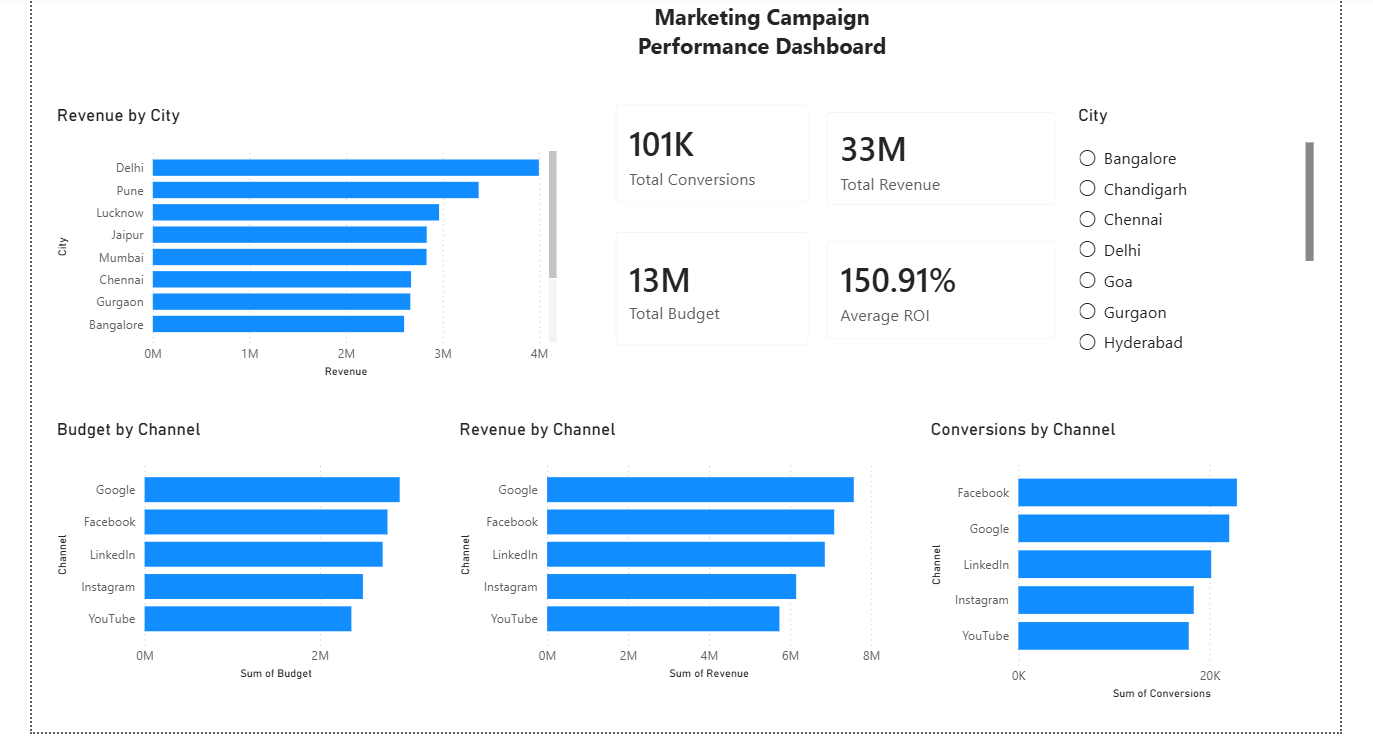

The dashboard page shown, as its layout file describes it:
{"tool":"powerbi","page":{"name":"Page 1","canvas":[1280,720],"ordinal":0},"visuals":[{"type":"cardVisual","fields":{"Data":["Sum(Marketing_Data.Budget)"]},"box":[553.9,214,223.8,145.5],"z":0},{"type":"cardVisual","fields":{"Data":["Sum(Marketing_Data.Conversions)"]},"box":[553.9,89.3,223.8,130.8],"z":1000},{"type":"clusteredBarChart","title":" Budget by Channel","fields":{"Y":["Sum(Marketing_Data.Budget)"],"Category":["Marketing_Data.Channel"]},"box":[19.6,413.3,362,260.5],"z":2000},{"type":"clusteredBarChart","title":"Revenue by Channel","fields":{"Category":["Marketing_Data.Channel"],"Y":["Sum(Marketing_Data.Revenue)"]},"box":[413.3,413.3,421.9,260.5],"z":3000},{"type":"clusteredBarChart","fields":{"Category":["Marketing_Data.City"],"Y":["Sum(Marketing_Data.Revenue)"]},"box":[19.6,106.4,498.9,271.5],"z":4000},{"type":"clusteredBarChart","title":"Conversions by Channel","fields":{"Category":["Marketing_Data.Channel"],"Y":["Sum(Marketing_Data.Conversions)"]},"box":[874.3,413.3,386.4,280],"z":5000},{"type":"textbox","box":[553.9,0,320.4,94.2],"z":6000},{"type":"cardVisual","fields":{"Data":["Sum(Marketing_Data.Revenue)"]},"box":[760.6,96.6,258,126],"z":7000},{"type":"cardVisual","fields":{"Data":["Avg(Marketing_Data.ROI (Return on Investment))"]},"box":[760.6,222.6,258,130.8],"z":8000},{"type":"listSlicer","fields":{"Values":["Marketing_Data.City"]},"box":[1018.6,106.4,240.9,247],"z":9000}]}

Visuals, with their boxes on the page's 1280x720 design canvas (x1, y1, x2, y2). These are canvas units, not pixel positions in the 1373x742 screenshot, which may show the page scaled, cropped or inside an application window:
cardVisual - Sum(Marketing_Data.Budget): 554:214:778:360
cardVisual - Sum(Marketing_Data.Conversions): 554:89:778:220
" Budget by Channel" clusteredBarChart: 20:413:382:674
"Revenue by Channel" clusteredBarChart: 413:413:835:674
clusteredBarChart - Marketing_Data.City x Sum(Marketing_Data.Revenue): 20:106:518:378
"Conversions by Channel" clusteredBarChart: 874:413:1261:693
textbox: 554:0:874:94
cardVisual - Sum(Marketing_Data.Revenue): 761:97:1019:223
cardVisual - Avg(Marketing_Data.ROI (Return on Investment)): 761:223:1019:353
listSlicer - Marketing_Data.City: 1019:106:1260:353
